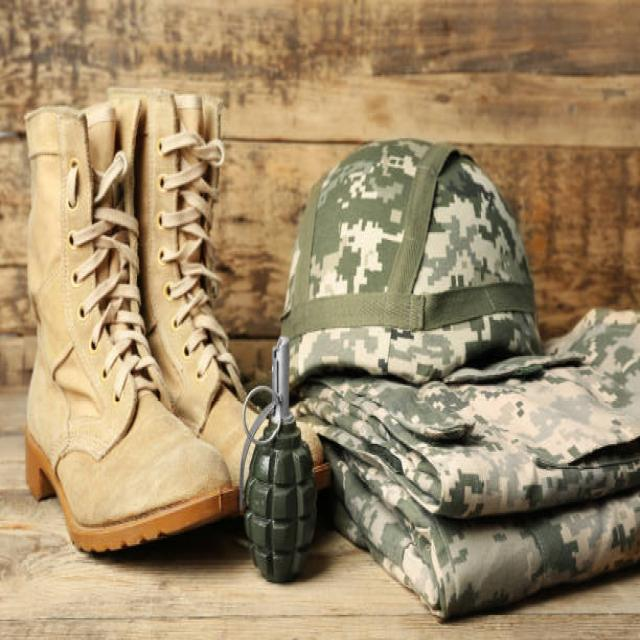grenade: (233, 336, 327, 594)
